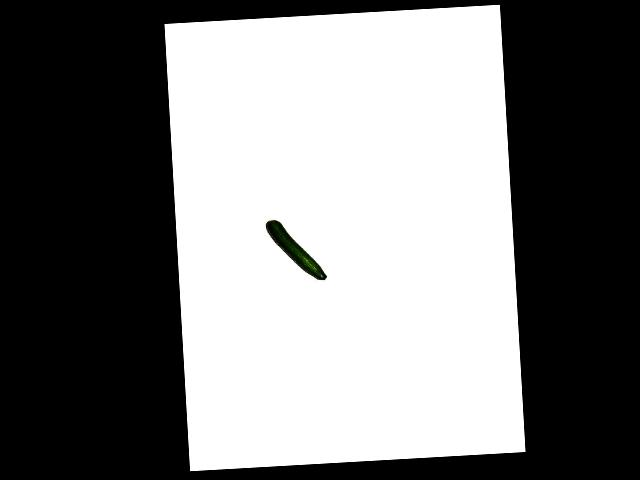cucumber: (265, 217, 326, 282)
